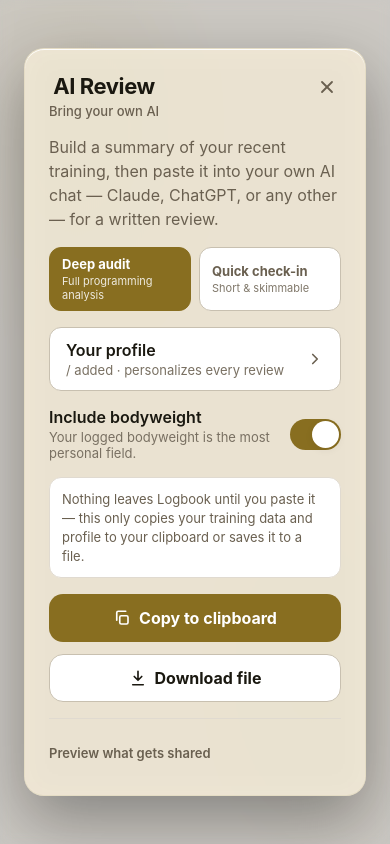
it: CoachSheet — bring-your-own-AI export (open loop) › copies the recommended prompt + training data to the clipboard
Click the button with class "coachPrimaryBtn" at (195, 618), box [49, 594, 341, 642]
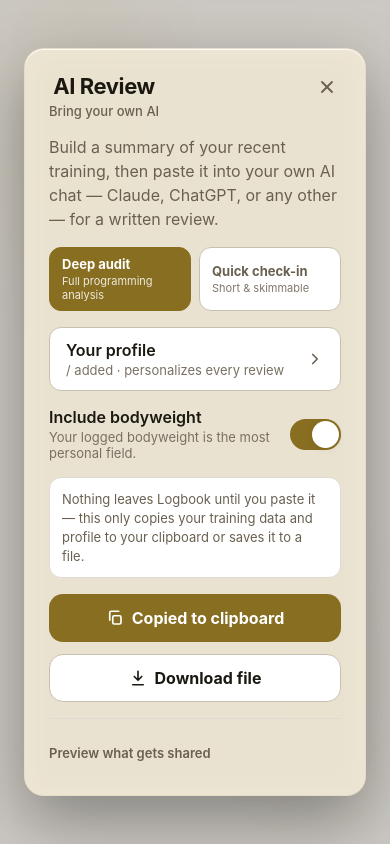
Expected: the text "Copied to clipboard" is shown, [49, 594, 341, 642]
